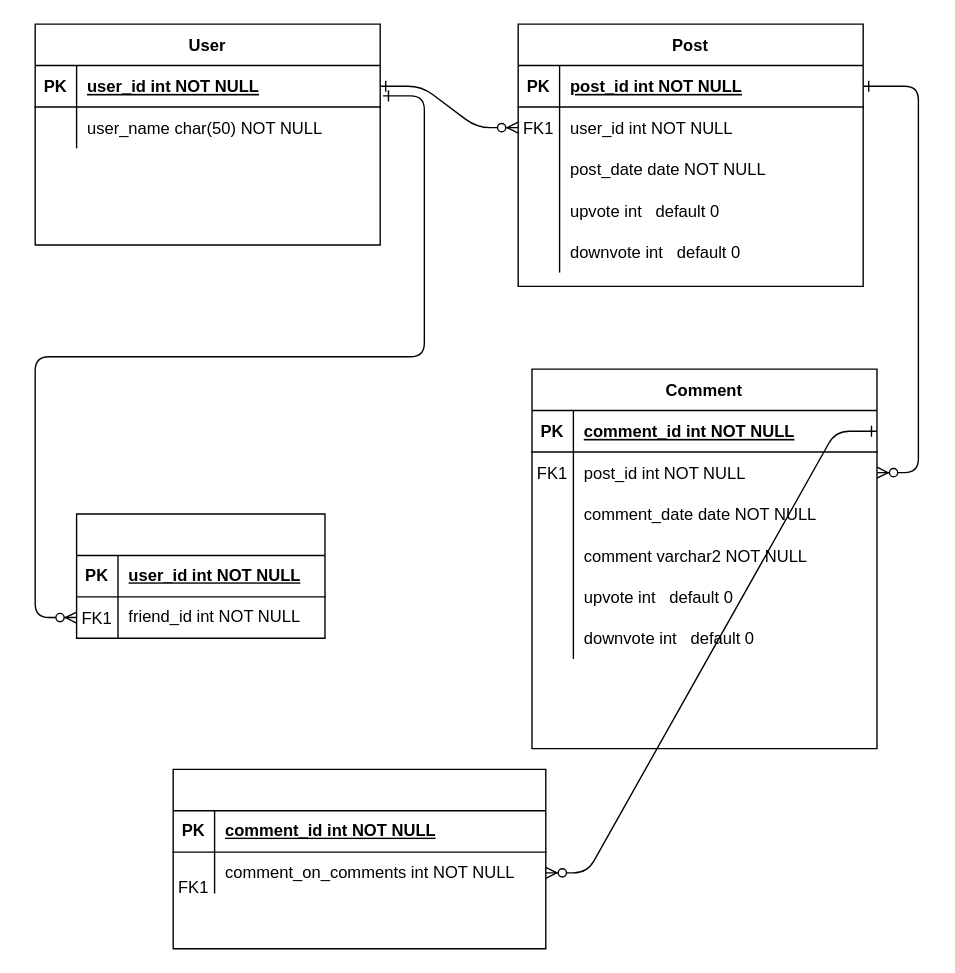
This 955x973 diagram has some shape labels left out. Each missing label, with the box of its shape:
Friends: (75, 513, 325, 638)
Table: (172, 768, 546, 949)
